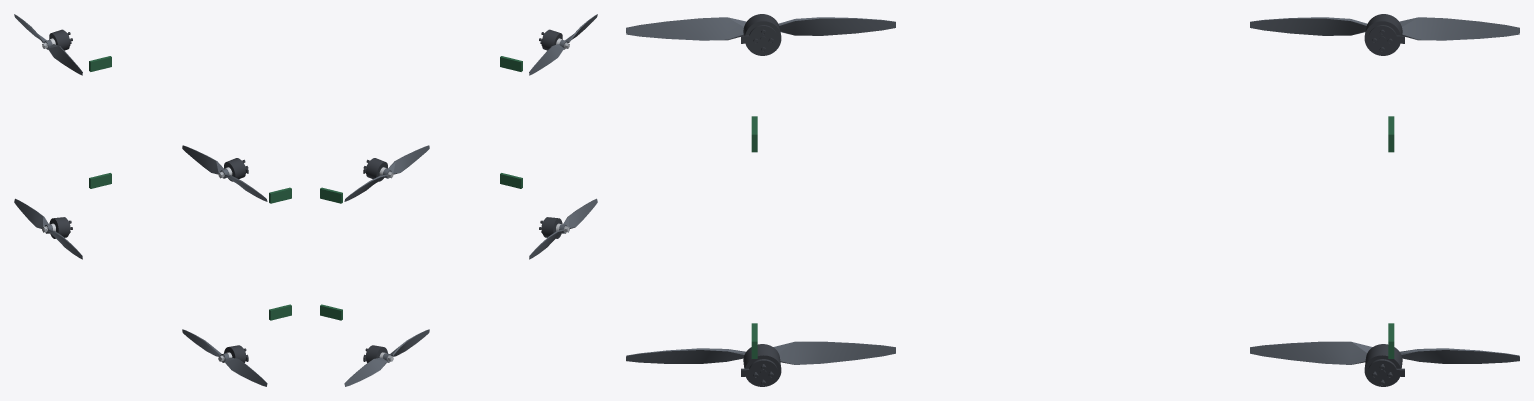
Rendered from propulsion.glb.
3 renders of one model, left to right at view 1: azimuth 30°, elevation 25°; view 2: azimuth 150°, elevation 25°; view 3: azimuth 270°, elevation 25°, orthographic. The views are drawn at different scales.
Visible parts, largest first — view 1: PRP-003-LL, PRP-003-UL, PRP-003-LR, PRP-003-UR, PRP-001-UL, PRP-001-LR, PRP-001-UR, PRP-002-LL, PRP-002-UR, PRP-002-LR, PRP-002-UL, PRP-001-LL; view 2: PRP-003-LR, PRP-003-UR, PRP-003-LL, PRP-003-UL, PRP-001-UR, PRP-001-LL, PRP-001-UL, PRP-002-LR, PRP-002-UL, PRP-002-LL, PRP-002-UR, PRP-001-LR; view 3: PRP-003-UR, PRP-003-UL, PRP-003-LR, PRP-003-LL, PRP-001-UR, PRP-001-UL, PRP-001-LR, PRP-001-LL.
Part boxes in pixels (x1,y1,x2,y2): PRP-003-LL: [182, 329, 267, 386]; PRP-003-UL: [182, 145, 267, 201]; PRP-003-LR: [14, 198, 82, 259]; PRP-003-UR: [14, 14, 82, 75]; PRP-001-UL: [224, 158, 248, 181]; PRP-001-LR: [49, 217, 70, 238]; PRP-001-UR: [49, 29, 70, 50]; PRP-002-LL: [269, 304, 291, 320]; PRP-002-UR: [89, 56, 111, 71]; PRP-002-LR: [89, 173, 111, 188]; PRP-002-UL: [269, 187, 291, 203]; PRP-001-LL: [224, 345, 248, 362]; PRP-003-LR: [344, 329, 429, 386]; PRP-003-UR: [344, 145, 429, 201]; PRP-003-LL: [529, 198, 597, 259]; PRP-003-UL: [529, 14, 597, 75]; PRP-001-UR: [363, 158, 387, 181]; PRP-001-LL: [541, 217, 562, 238]; PRP-001-UL: [541, 29, 562, 50]; PRP-002-LR: [320, 304, 342, 320]; PRP-002-UL: [500, 56, 522, 71]; PRP-002-LL: [500, 173, 522, 188]; PRP-002-UR: [320, 187, 342, 203]; PRP-001-LR: [363, 345, 387, 362]; PRP-003-UR: [1250, 17, 1519, 40]; PRP-003-UL: [626, 17, 895, 40]; PRP-003-LR: [1250, 341, 1519, 364]; PRP-003-LL: [626, 341, 895, 364]; PRP-001-UR: [1364, 14, 1404, 55]; PRP-001-UL: [741, 14, 781, 55]; PRP-001-LR: [1364, 344, 1404, 386]; PRP-001-LL: [741, 344, 781, 386].
Size of the model in its own units: 0.1473 by 0.4171 by 0.9236.
